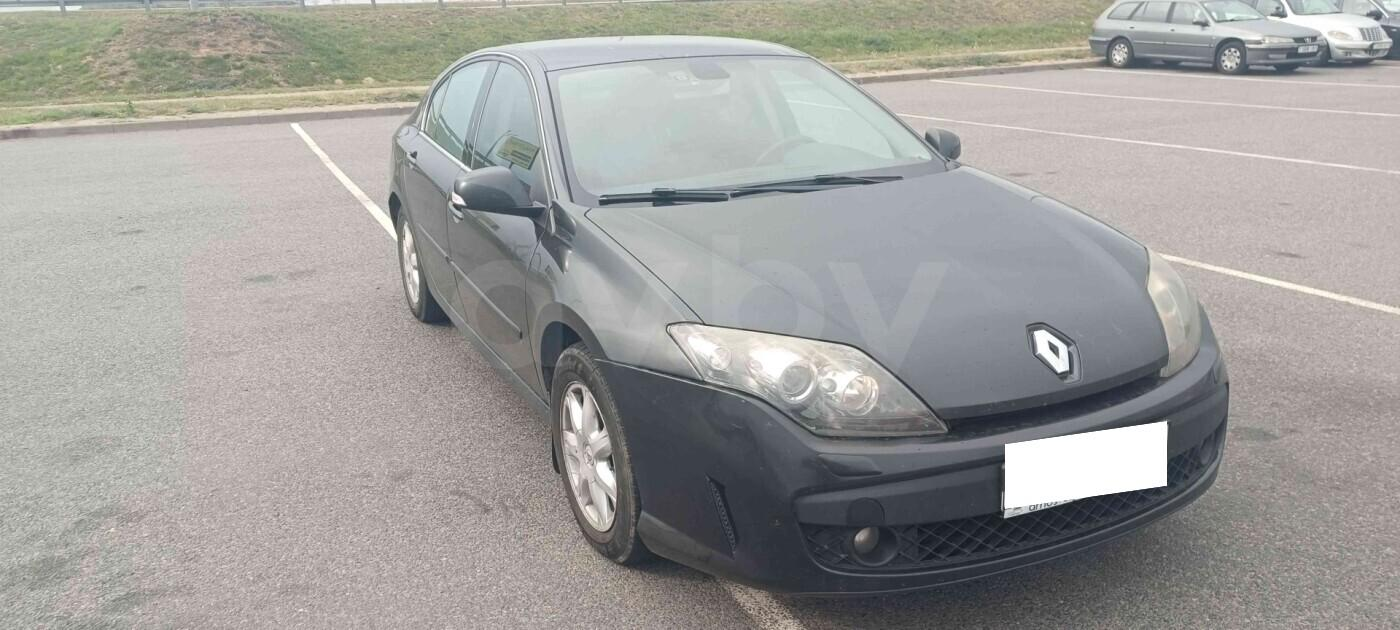Laguna_2007-2011: (379, 36, 1230, 592)
